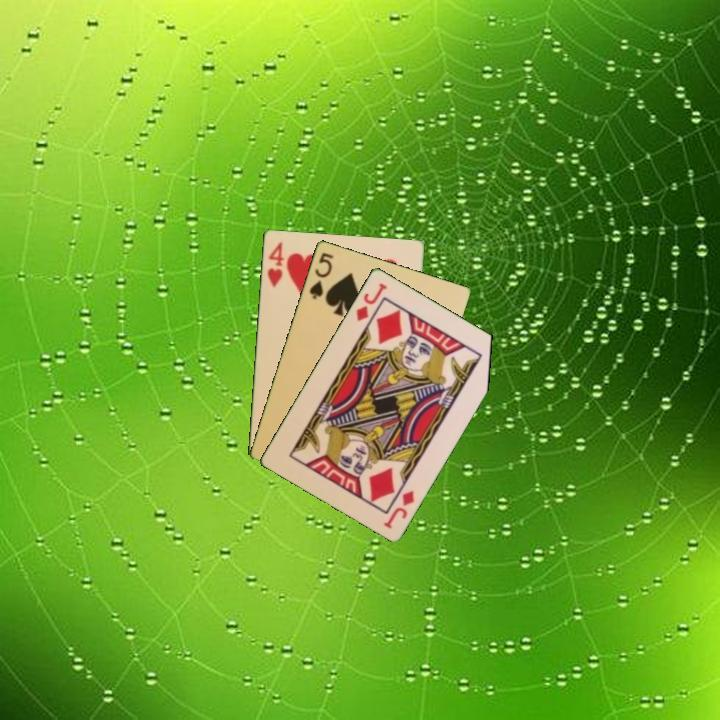4h: (263, 238, 286, 290)
5s: (305, 248, 336, 302)
Jd: (352, 279, 390, 324), (380, 486, 417, 531)
